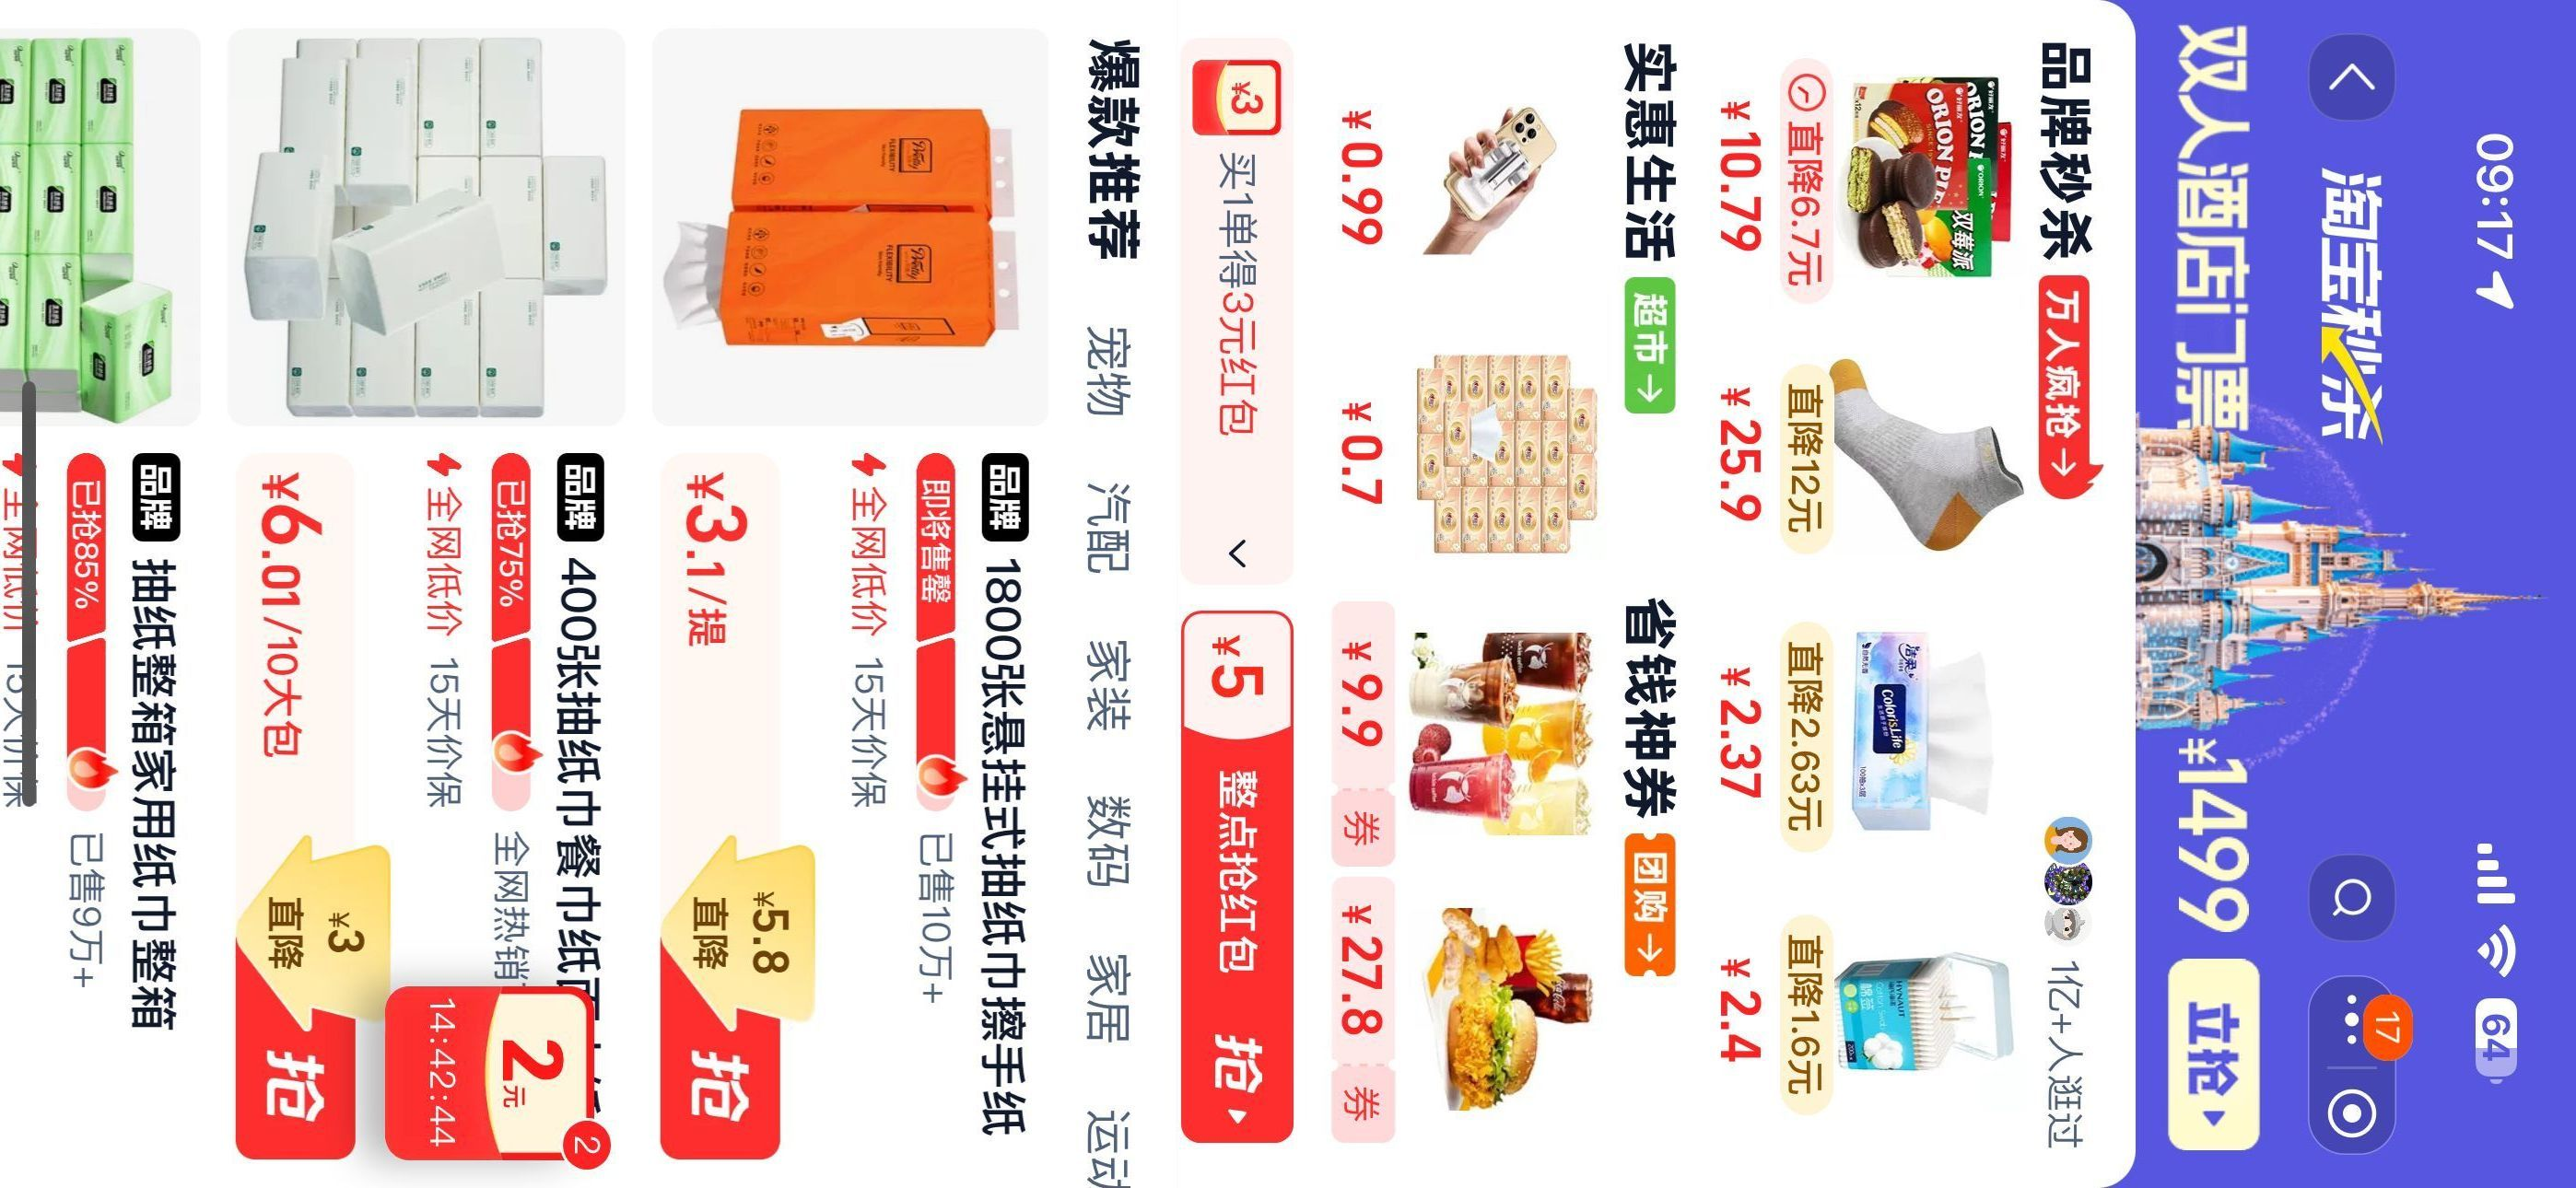banner: (1147, 10, 1314, 1185)
item: (639, 13, 1076, 1188), (214, 5, 632, 1188)
op_bar: (2285, 3, 2431, 1185)
